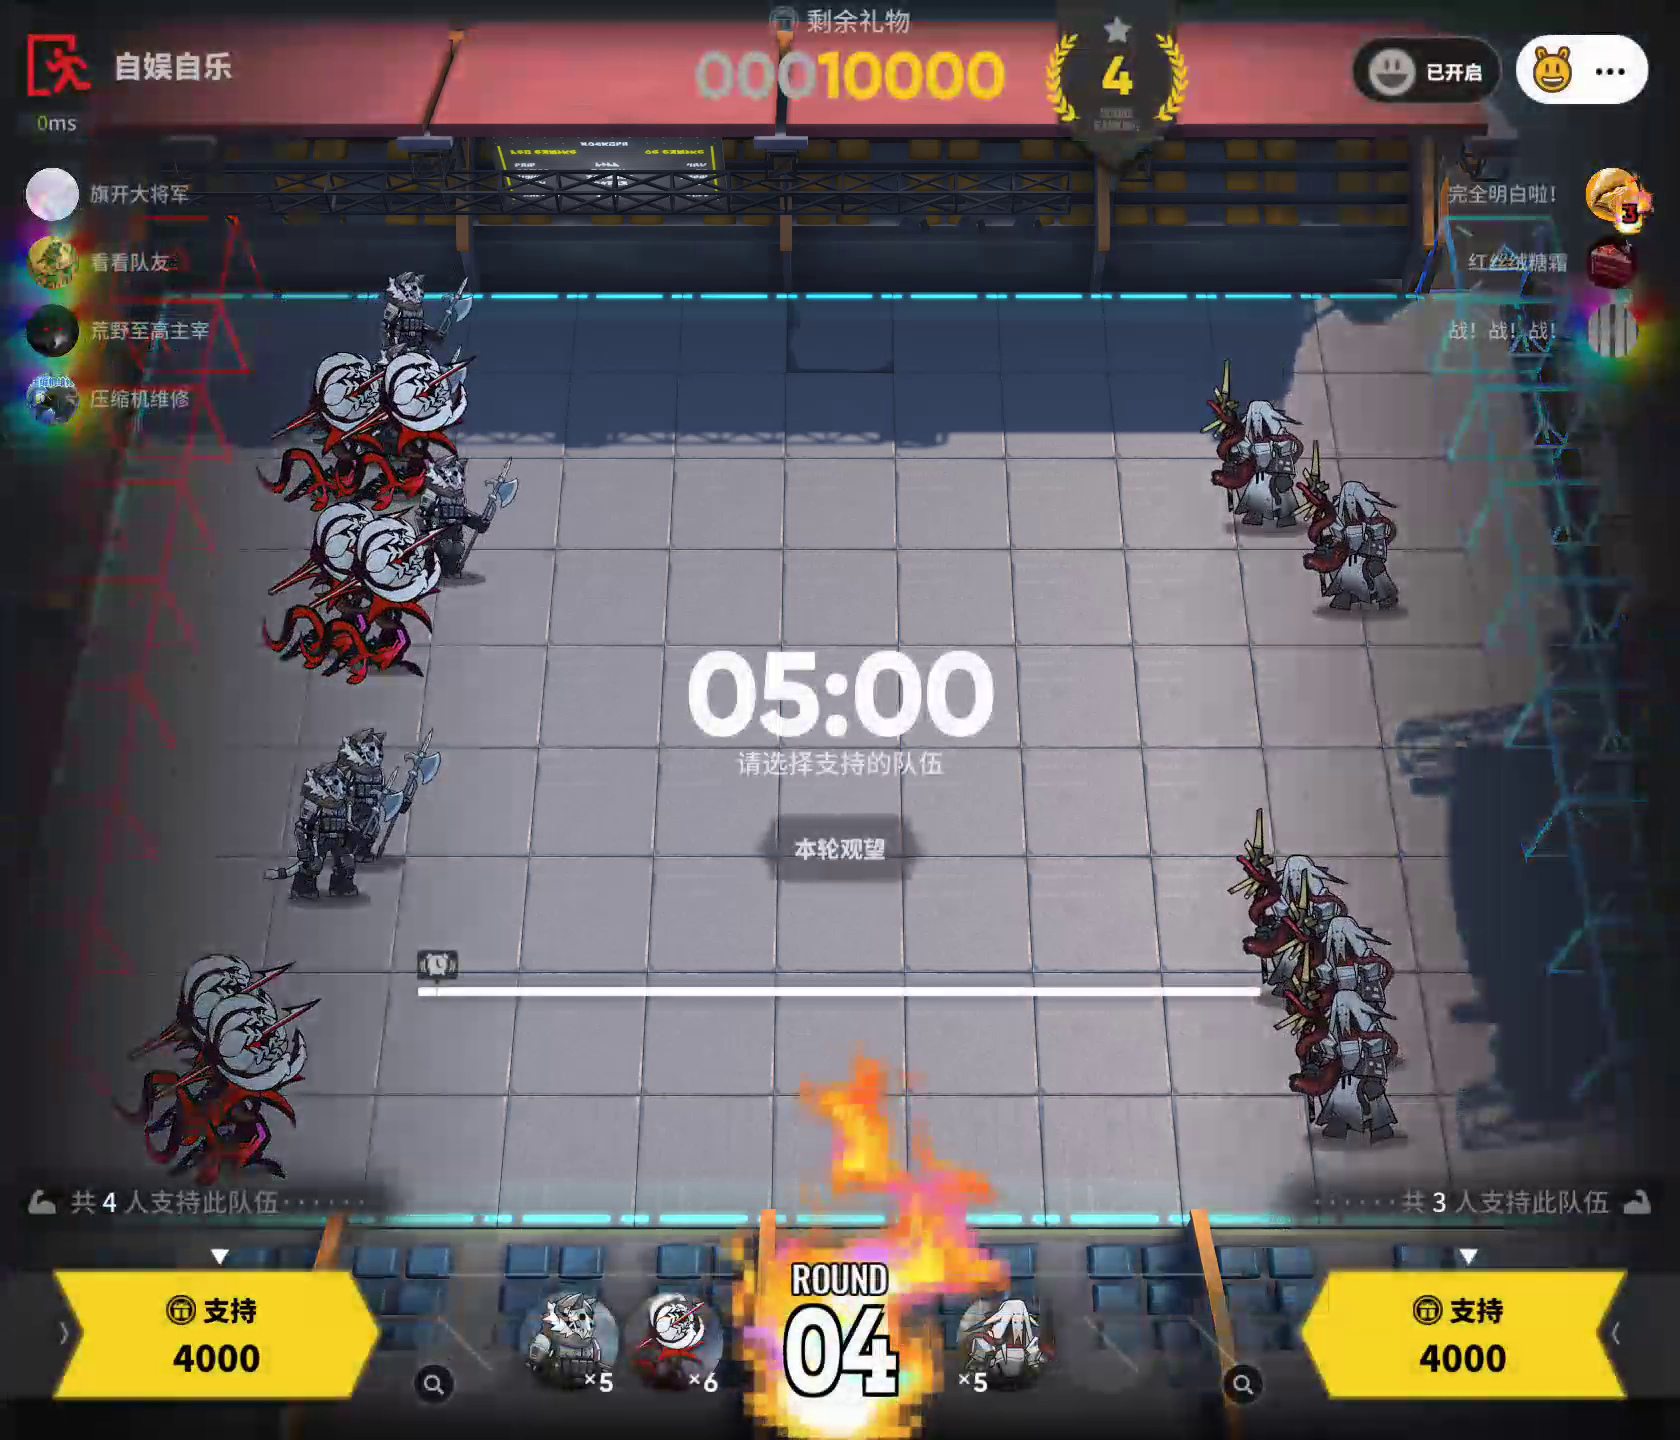标枪恐鱼: (120, 931, 291, 1127), (153, 986, 316, 1189), (254, 487, 414, 671), (297, 520, 460, 691), (259, 331, 399, 514), (371, 356, 481, 503), (620, 1271, 731, 1391)
重生术师: (1214, 791, 1359, 979), (1287, 939, 1411, 1146), (1279, 856, 1409, 1034), (1286, 426, 1403, 616), (1206, 343, 1304, 537), (947, 1284, 1066, 1404)
雪境精锐: (259, 754, 404, 924), (321, 709, 447, 870), (391, 451, 527, 580), (374, 259, 484, 381), (511, 1277, 626, 1394)
